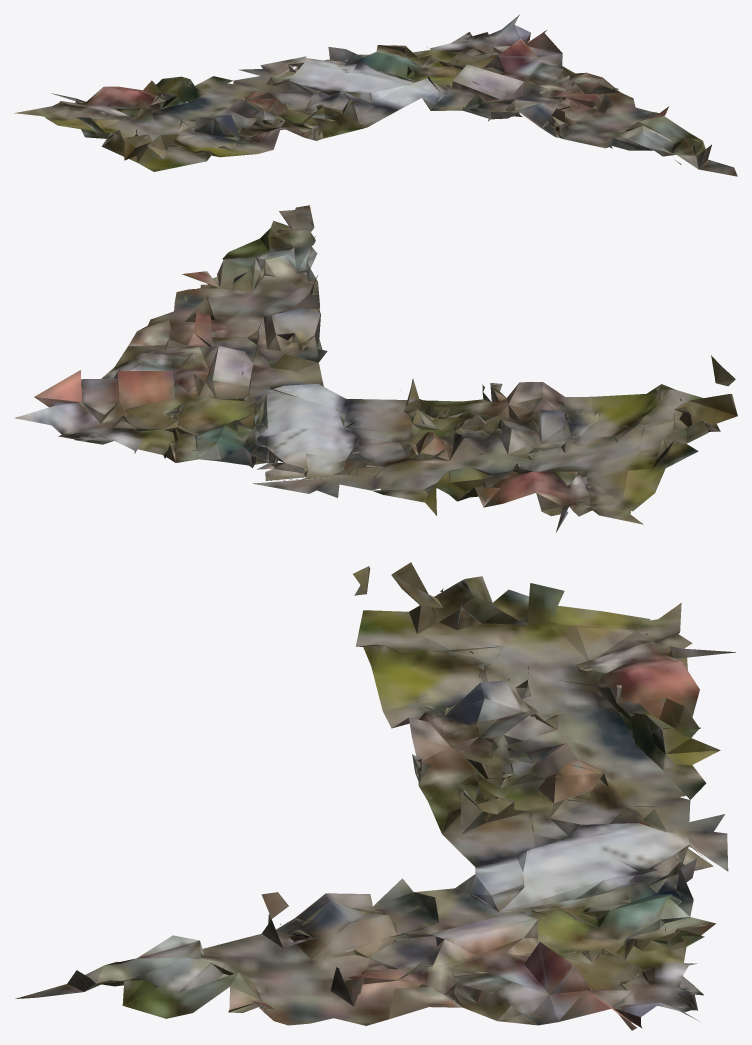
File: Tile_009_004_L15.gltf
3 views of the same model, one above another, from view 1: azimuth 30°, elevation 25°; view 2: azimuth 150°, elevation 25°; view 3: azimuth 270°, elevation 25° (orthographic). The views are drawn at different scales.
Visible parts, largest first — view 1: Tile_+009_+004_L15; view 2: Tile_+009_+004_L15; view 3: Tile_+009_+004_L15.
Part boxes in pixels (bbox=[...]): Tile_+009_+004_L15: bbox=[14, 14, 737, 176]; Tile_+009_+004_L15: bbox=[14, 205, 737, 532]; Tile_+009_+004_L15: bbox=[15, 562, 735, 1030].
Bounding box in the file's own units: 226 × 36.29 × 183.
Materials: 1 (1 with a texture image).
